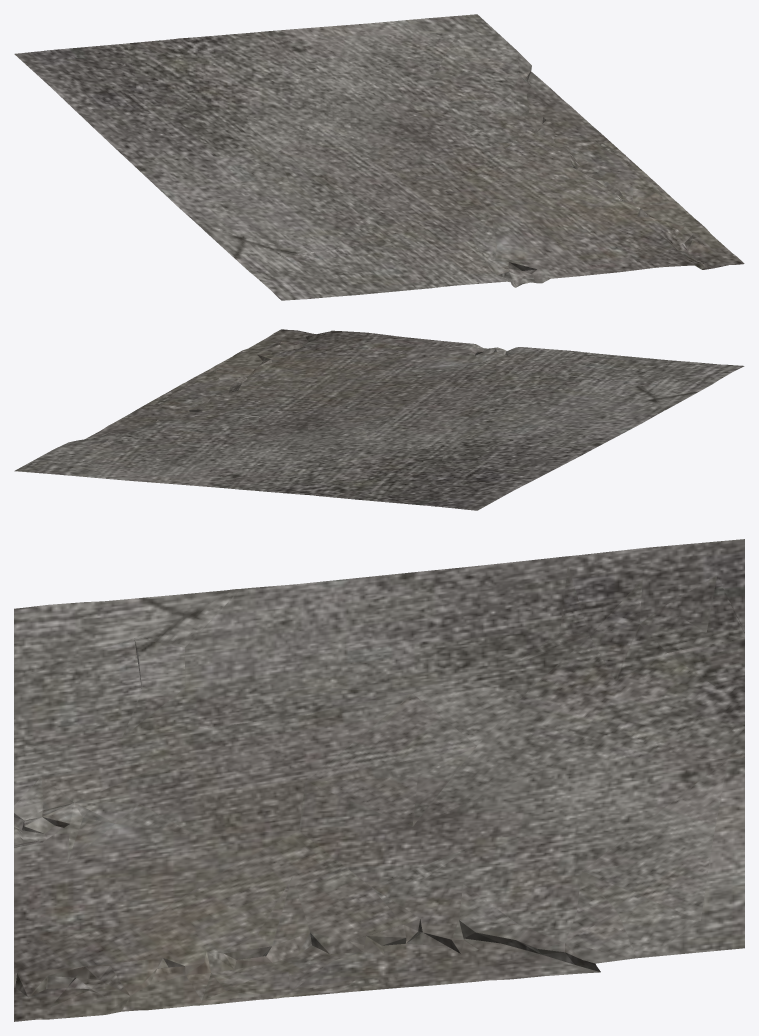
The picture shows the model from 3 angles, top to bottom: view 1: azimuth 30°, elevation 25°; view 2: azimuth 150°, elevation 25°; view 3: azimuth 270°, elevation 25°; orthographic projection. The views are drawn at different scales.
Bounding box in the file's own units: 1.67 × 0.4397 × 1.67.
3 materials, 3 textured.
